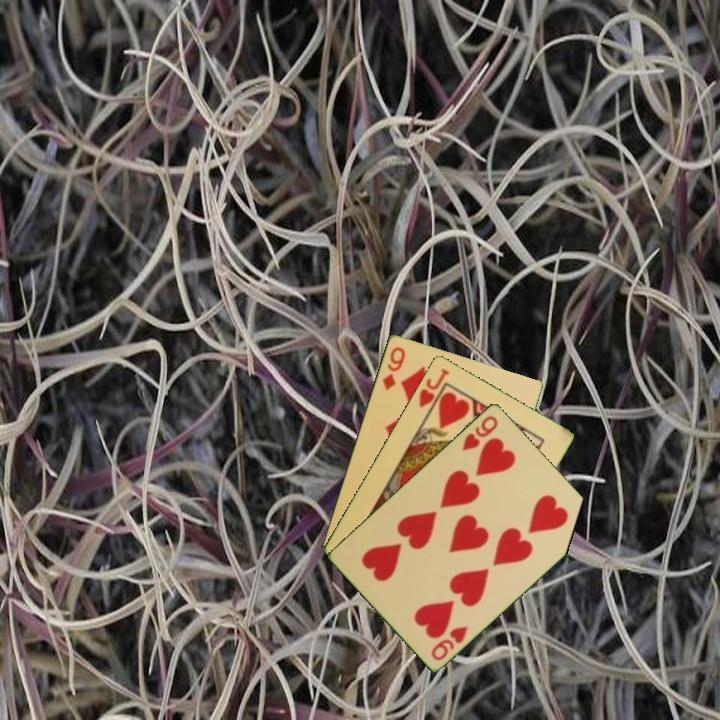9d: (378, 343, 408, 392)
9h: (458, 411, 501, 453), (427, 622, 471, 663)
Jh: (415, 364, 452, 411)
